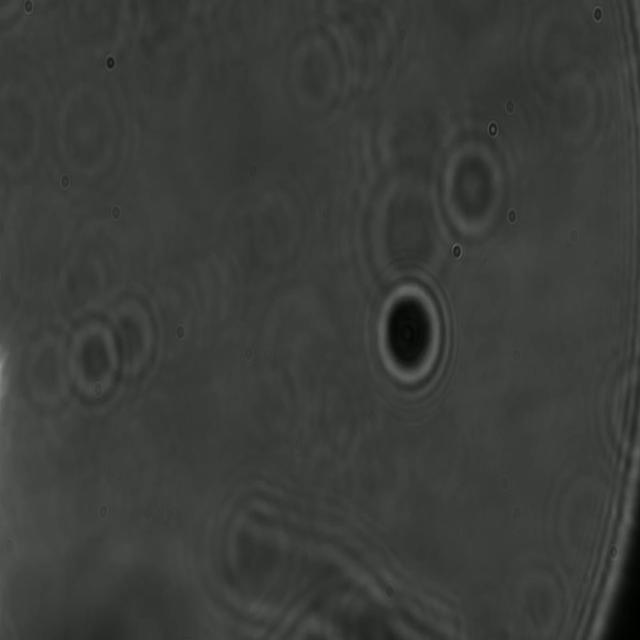DCELL: (372, 276, 454, 402)
